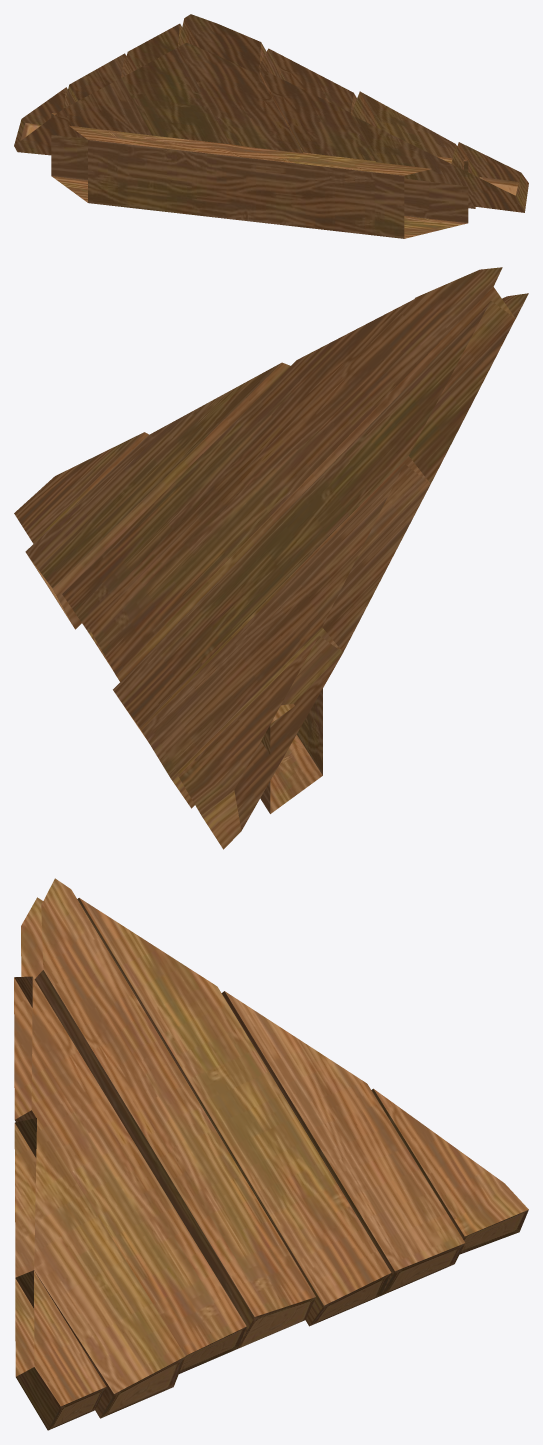
File: roof-qm-roofwooden2x1corner.glb
The picture shows the model from 3 angles, top to bottom: view 1: azimuth 30°, elevation 25°; view 2: azimuth 150°, elevation 25°; view 3: azimuth 270°, elevation 25°; orthographic projection. The views are drawn at different scales.
Visible parts, largest first — view 1: Cube_084; view 2: Cube_084; view 3: Cube_084.
Boxes of the visible parts, x1=… form: Cube_084: x1=14, y1=14, x2=528, y2=238; Cube_084: x1=14, y1=267, x2=528, y2=849; Cube_084: x1=14, y1=878, x2=528, y2=1430.
Bounding box in the file's own units: 1.54 × 1.18 × 1.56.
2 materials, 2 textured.
